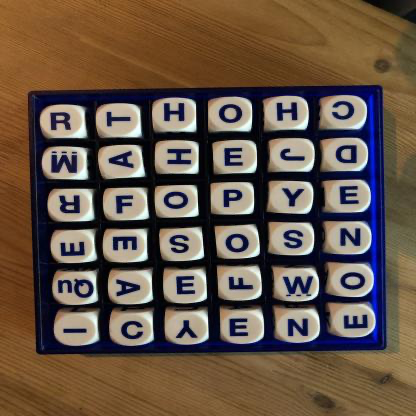a: (110, 272, 153, 305), (101, 146, 142, 178)
c: (323, 97, 367, 129), (111, 316, 153, 347)
d: (326, 139, 369, 171)
e: (103, 232, 147, 264), (164, 272, 208, 304), (221, 312, 265, 344), (331, 306, 375, 338), (53, 232, 95, 264), (326, 182, 370, 212), (215, 143, 258, 173)
f: (219, 269, 262, 300), (105, 190, 147, 221)
h: (157, 142, 199, 175), (267, 98, 308, 130), (155, 102, 196, 131)
i: (56, 317, 96, 346)
j: (272, 140, 314, 172)
m: (44, 150, 86, 179)
n: (325, 222, 370, 256), (276, 311, 319, 343)
o: (215, 228, 260, 259), (332, 265, 372, 298), (210, 100, 252, 131), (158, 187, 198, 218)
p: (211, 185, 254, 215)
qu: (55, 273, 98, 305)
r: (42, 106, 87, 139), (50, 191, 95, 222)
s: (271, 223, 314, 256), (160, 230, 202, 261)
t: (99, 106, 141, 137)
w: (274, 270, 318, 303)
y: (167, 313, 208, 345), (271, 183, 312, 214)
